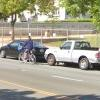cars: (52, 39, 100, 68), (1, 39, 52, 65)
